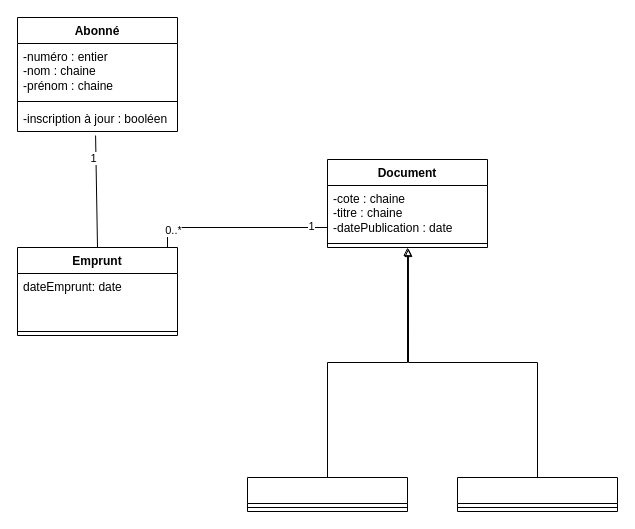
The diagram is 635 pixels wide and 529 high, and some of its shapes have lost their labels. The centre of each missing label's shape, as x and y in pixels:
"CD ou DVD" belongs at (537,494).
"Livre" belongs at (327,494).
